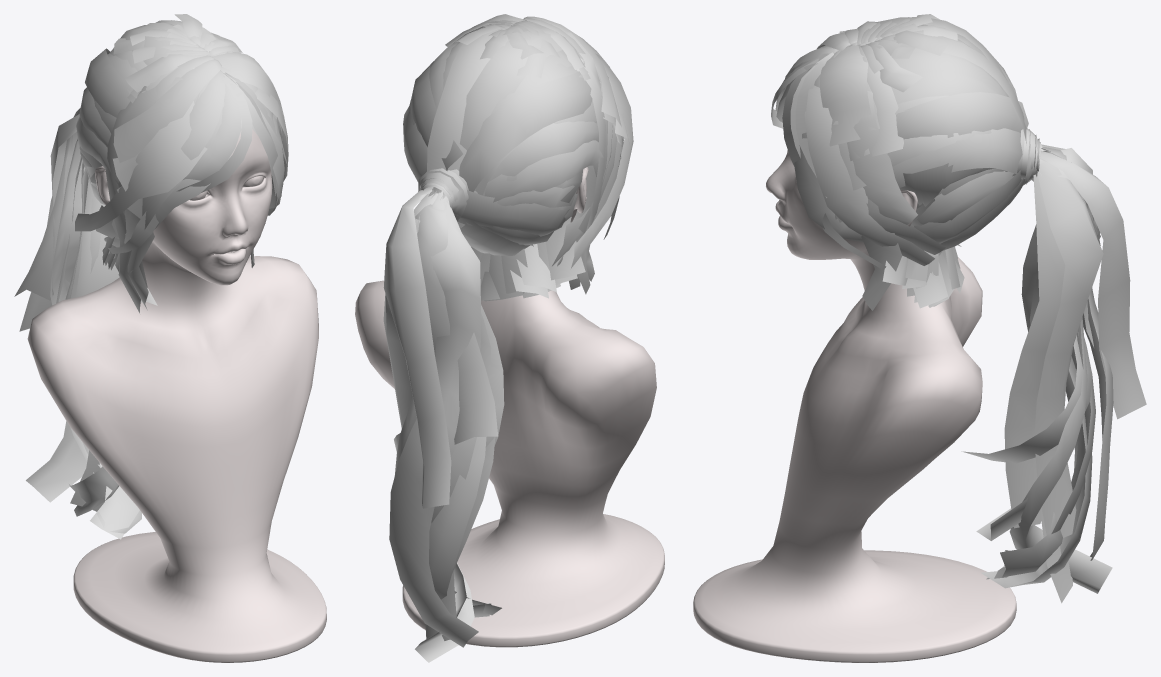
File: Hair008P.glb
The picture shows the model from 3 angles, left to right: view 1: azimuth 30°, elevation 25°; view 2: azimuth 150°, elevation 25°; view 3: azimuth 270°, elevation 25°; orthographic projection. The views are drawn at different scales.
Parts seen in each view (by area): view 1: Head, Hair; view 2: Hair, Head; view 3: Hair, Head.
Part boxes in pixels (x1=…): Head: x1=27, y1=129, x2=326, y2=662; Hair: x1=14, y1=14, x2=288, y2=539; Hair: x1=383, y1=14, x2=633, y2=662; Head: x1=355, y1=167, x2=664, y2=647; Hair: x1=771, y1=14, x2=1146, y2=603; Head: x1=693, y1=89, x2=1016, y2=662.
Size of the model in its own units: 0.3156 by 0.6039 by 0.4228.
Materials: 2 (1 with a texture image).
